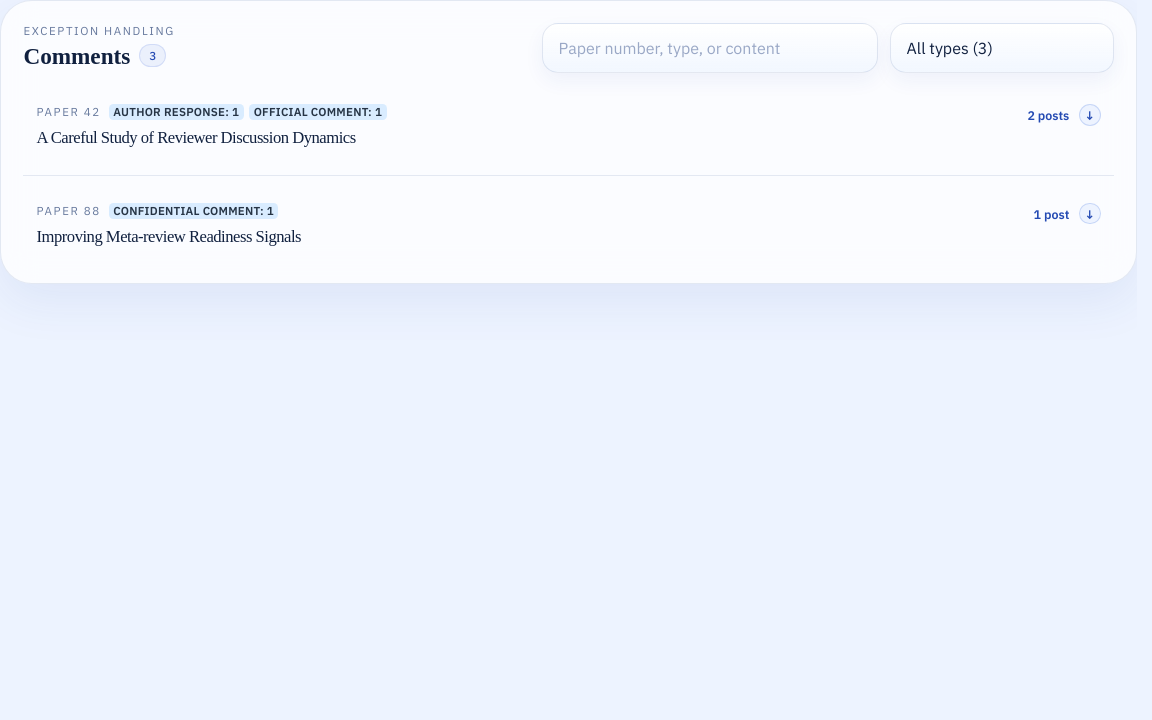
Scenario: CommentsPanel › does not load images embedded in OpenReview-authored Markdown
The image size is (1152, 720).
Click the button named "paper 42 a careful study of reviewer discussion dynamics 2 posts".
click(60, 112)  # box [23,92,1114,161]
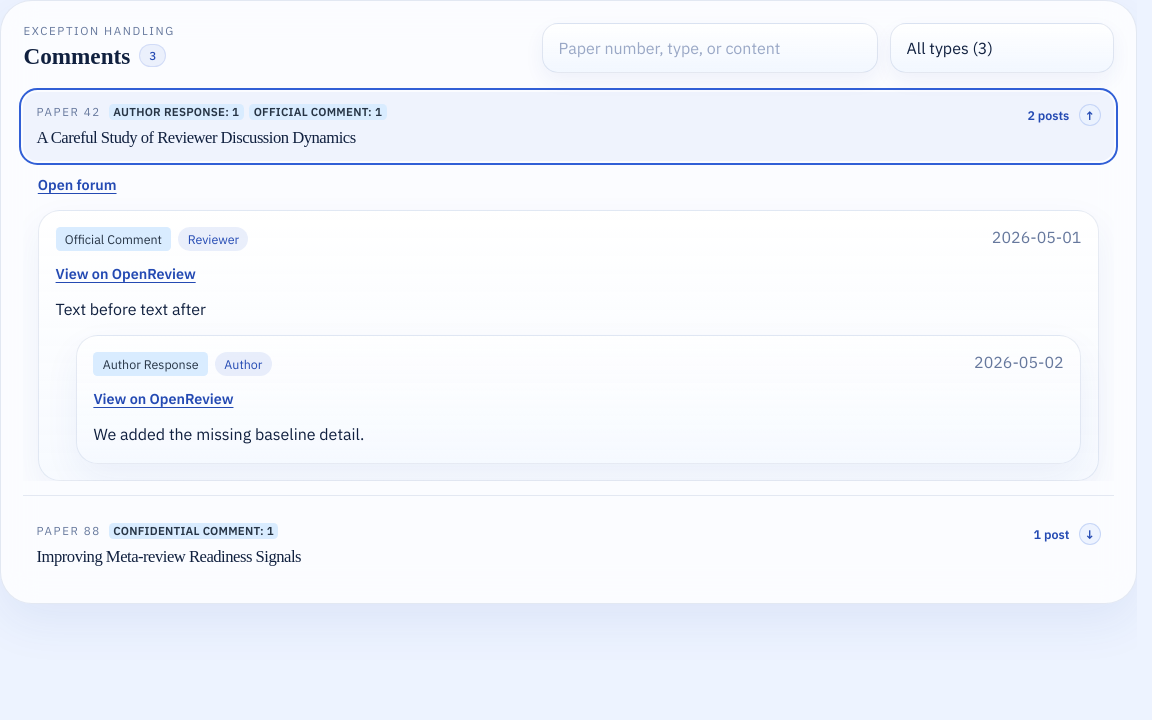
Expected: the text "Text before text after" is shown, [56,299,206,319]
